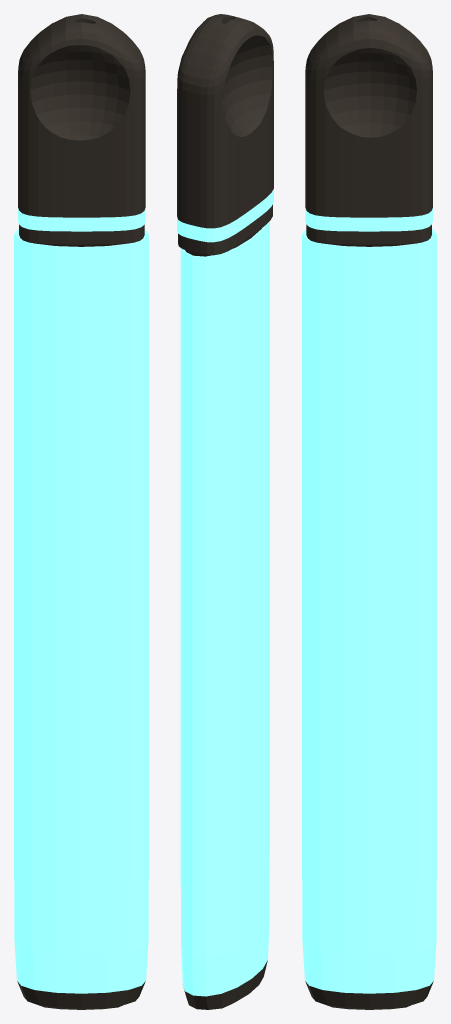
File: vaper.glb
3 views of the same model, side by side, from view 1: azimuth 90°, elevation 25°; view 2: azimuth 150°, elevation 25°; view 3: azimuth 270°, elevation 25° (orthographic).
Visible parts, largest first — view 1: Bottom, Top, TopBottom; view 2: Bottom, Top, TopBottom; view 3: Bottom, Top, TopBottom.
Boxes of the visible parts, x1,y1,x2,y2 form: Bottom: (14, 228, 148, 1009); Top: (18, 14, 145, 231); TopBottom: (19, 224, 144, 246); Bottom: (180, 221, 269, 1009); Top: (177, 14, 273, 242); TopBottom: (178, 204, 272, 256); Bottom: (302, 228, 436, 1009); Top: (305, 14, 432, 231); TopBottom: (306, 224, 431, 246).
Bounding box in the file's own units: 0.6202 × 10.38 × 1.29.
